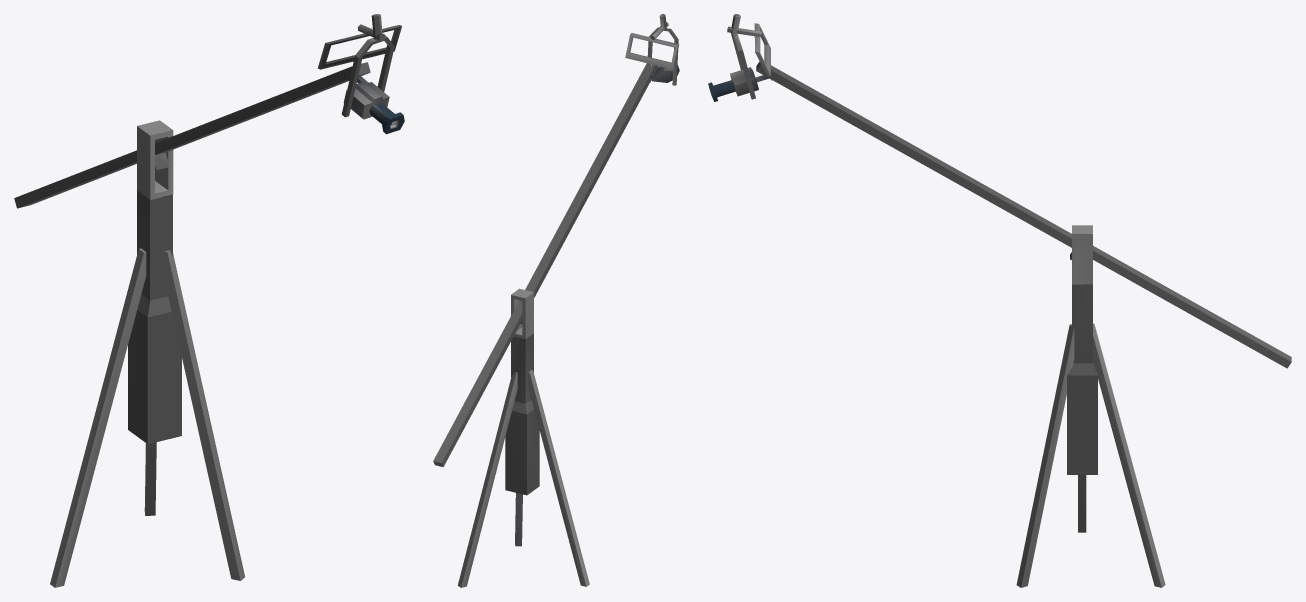
The model's file is craneCam.glb.
3 views of the same model, side by side, from view 1: azimuth 30°, elevation 25°; view 2: azimuth 150°, elevation 25°; view 3: azimuth 270°, elevation 25° (orthographic). The views are drawn at different scales.
Parts seen in each view (by area): view 1: pillar, arm, camera, armHandler; view 2: pillar, arm, armHandler, camera; view 3: pillar, arm, camera, armHandler.
Boxes of the visible parts, box(x1,y1,x2,y2) form: pillar: box(50, 191, 244, 587); arm: box(14, 14, 401, 208); camera: box(341, 35, 404, 134); armHandler: box(137, 120, 173, 199); pillar: box(457, 333, 589, 587); arm: box(433, 14, 679, 466); armHandler: box(511, 288, 533, 339); camera: box(644, 27, 679, 85); pillar: box(1016, 284, 1165, 587); arm: box(727, 14, 1291, 368); camera: box(708, 33, 777, 101); armHandler: box(1072, 225, 1092, 284).
Bounding box in the file's own units: 1.48 × 6.51 × 6.22.
